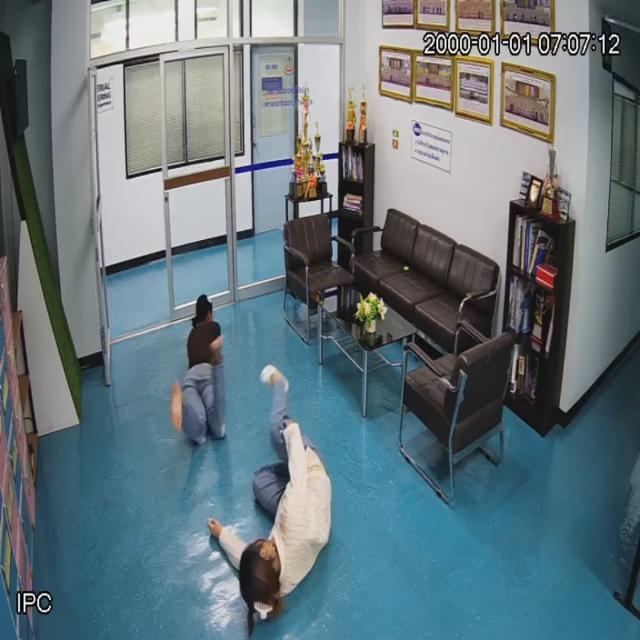fall: (220, 354, 333, 618), (164, 288, 234, 450)
